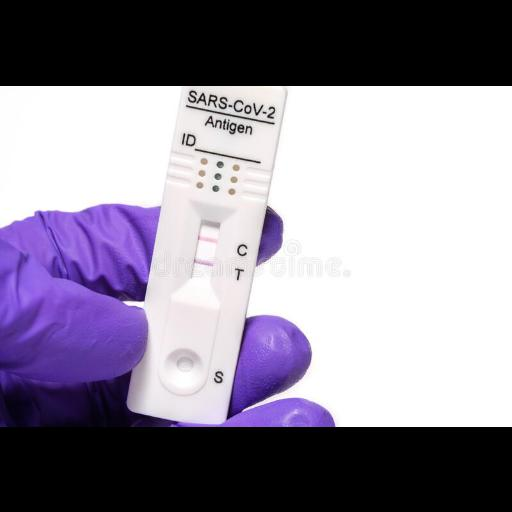Pos: (126, 85, 285, 424)
